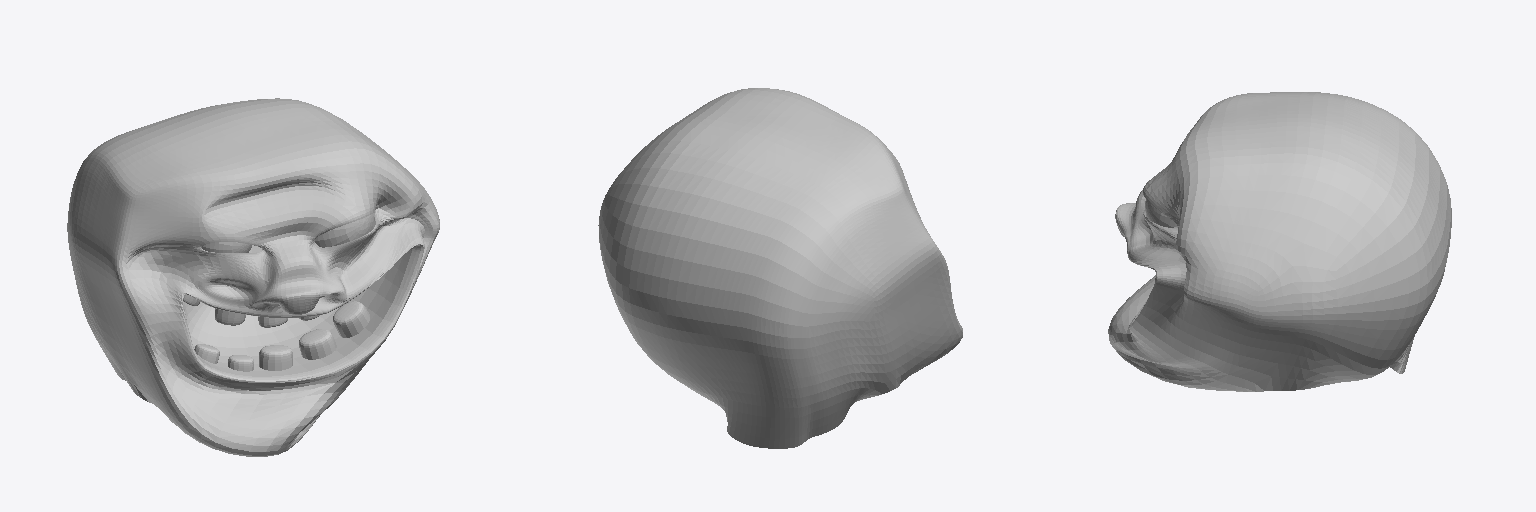
Rendered from troll.obj.
The picture shows the model from 3 angles: view 1: azimuth 30°, elevation 25°; view 2: azimuth 150°, elevation 25°; view 3: azimuth 270°, elevation 25°; orthographic projection.
Visible parts, largest first — view 1: Plane.002_Plane.003, Plane, Plane.001; view 2: Plane.002_Plane.003; view 3: Plane.002_Plane.003.
Part boxes in pixels (x1,y1,x2,y2): Plane.002_Plane.003: (67, 98, 439, 456); Plane: (184, 248, 412, 376); Plane.001: (183, 295, 369, 371); Plane.002_Plane.003: (598, 88, 962, 448); Plane.002_Plane.003: (1108, 92, 1451, 391).
Size of the model in its own units: 1.8 by 1.48 by 1.74.